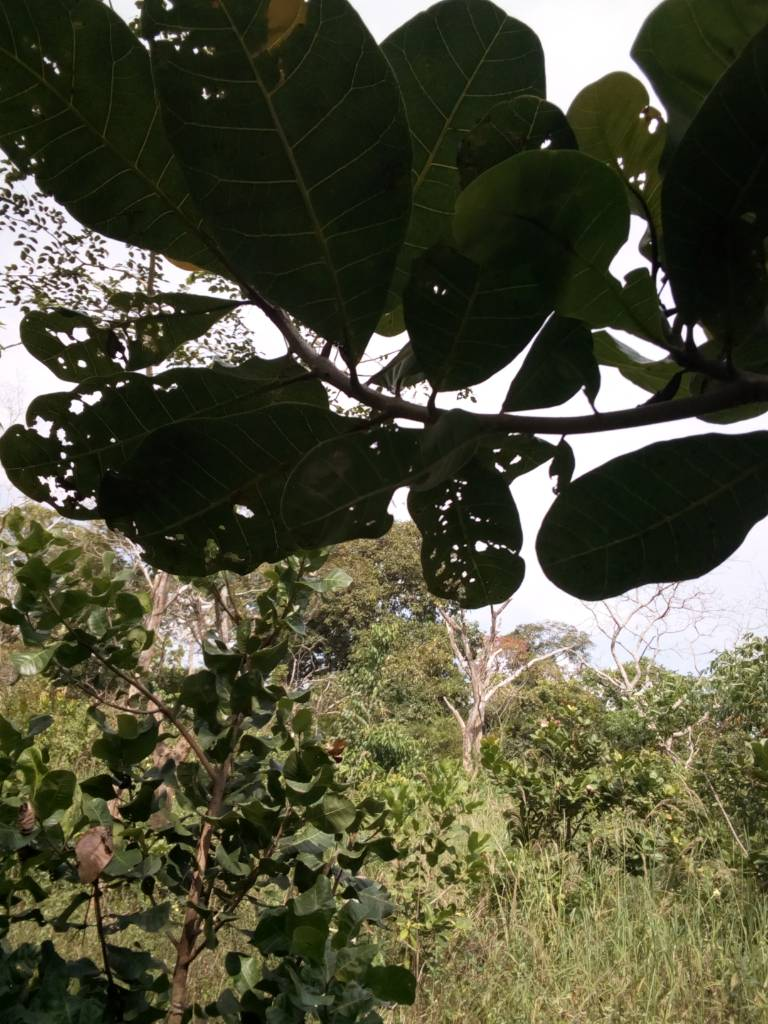Anoplonemis curvipes: (1, 358, 454, 582), (19, 278, 243, 428), (396, 432, 560, 616)
